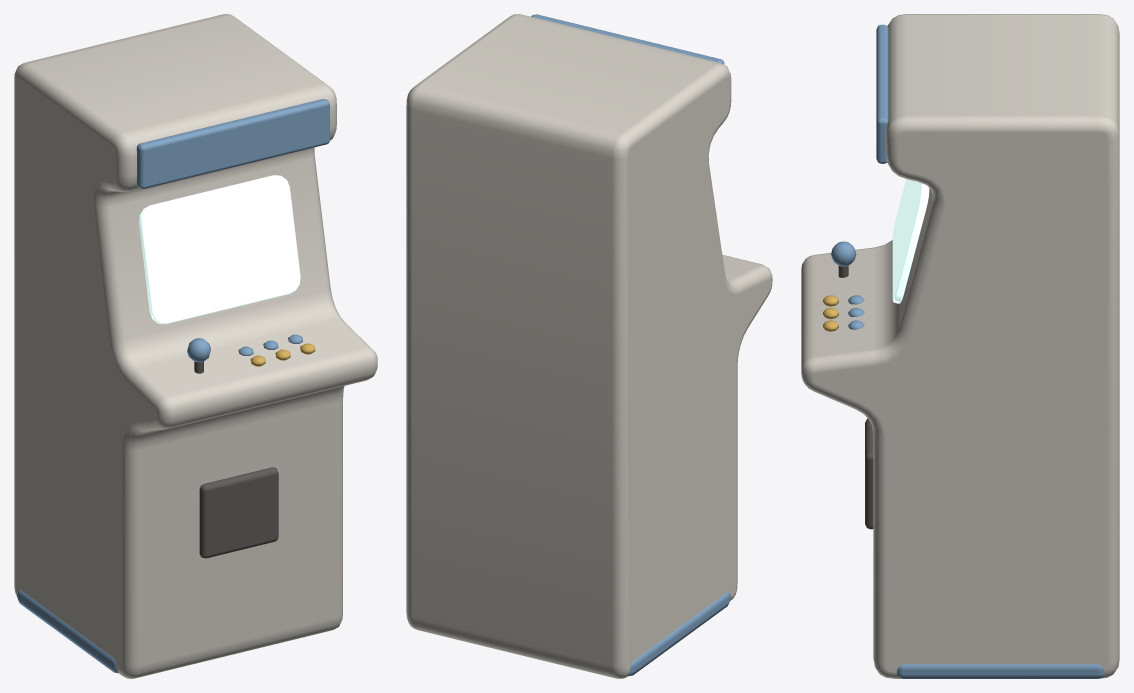
The model's file is arcade_cabinet_blue.glb.
The picture shows the model from 3 angles, left to right: view 1: azimuth 30°, elevation 25°; view 2: azimuth 150°, elevation 25°; view 3: azimuth 270°, elevation 25°; orthographic projection. The views are drawn at different scales.
Visible parts, largest first — view 1: arcade_cabinet_blue_mesh; view 2: arcade_cabinet_blue_mesh; view 3: arcade_cabinet_blue_mesh.
Part boxes in pixels (box(x1,y1,x2,y2)): arcade_cabinet_blue_mesh: box(14, 14, 377, 678); arcade_cabinet_blue_mesh: box(406, 14, 772, 678); arcade_cabinet_blue_mesh: box(801, 14, 1119, 678).
Bounding box in the file's own units: 0.632 × 1.46 × 0.75.
